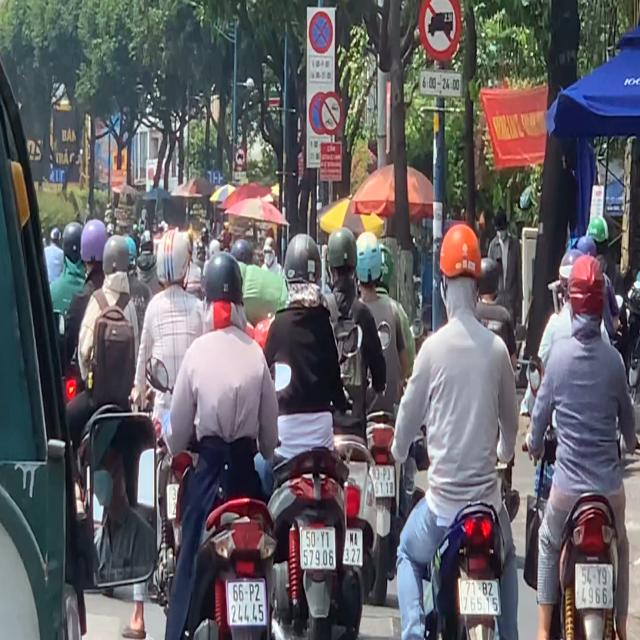Cam con lai: (422, 0, 457, 61), (318, 88, 343, 136)
Cam dung va do: (308, 8, 334, 56)
